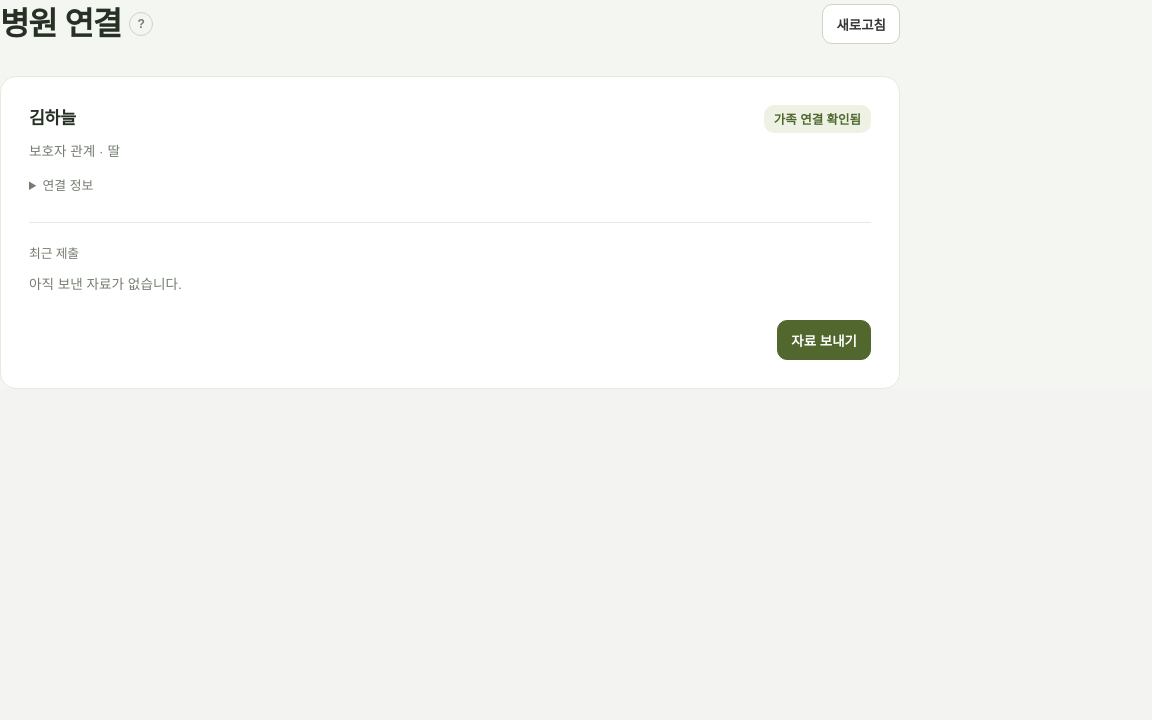
Test: 자료 전송 실패는 시트 안에서 보이고 닫을 수 있다
This screenshot has width=1152, height=720.
Click the button "자료 보내기" at point(824, 340), box [777,320,871,360]
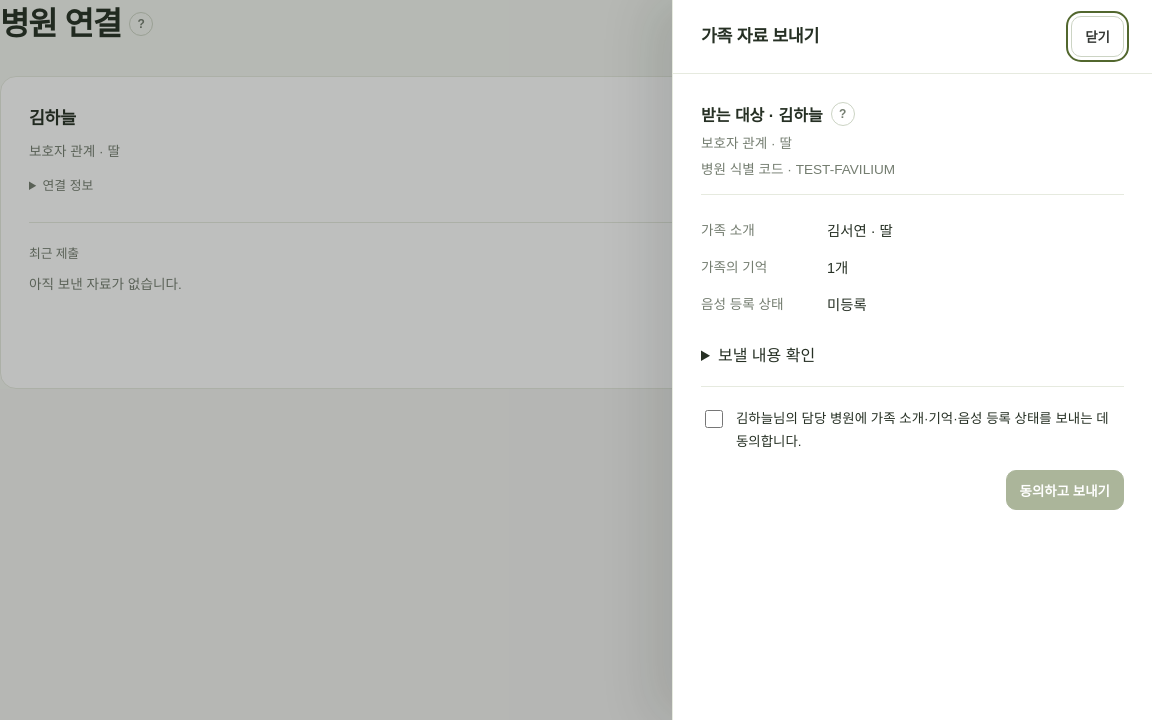
Check: the checkbox is enabled
Click the checkbox at point(714, 418), box [705,410,723,428]
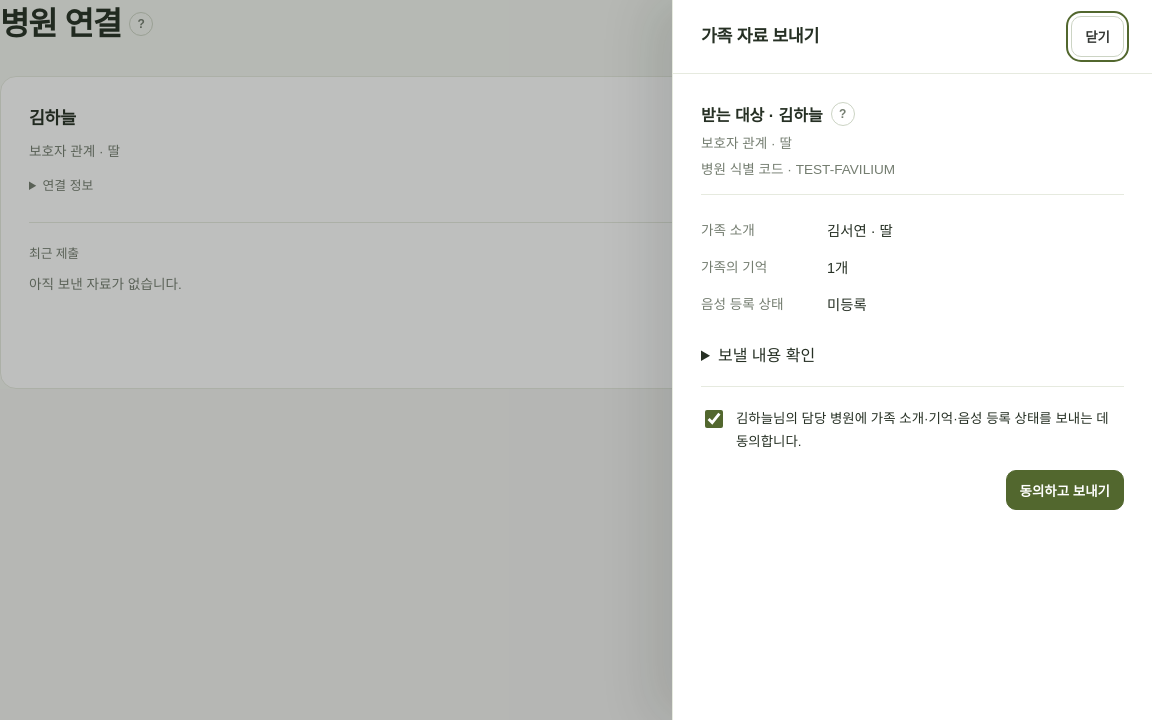
Click the button "동의하고 보내기" at point(1065, 490), box [1006,470,1124,510]
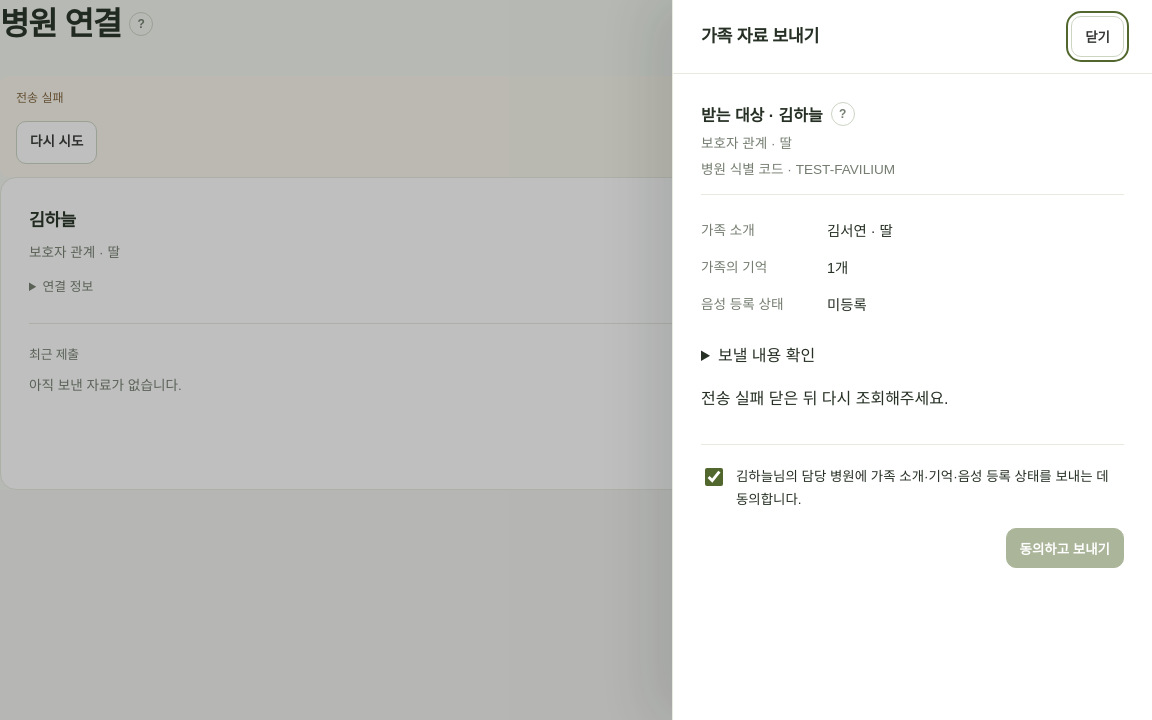
Check: the dialog shows "전송 실패", box [701,390,764,406]
Click the button with aria-label "가족 자료 보내기 닫기" at point(1098, 36), box [1071,16,1124,56]
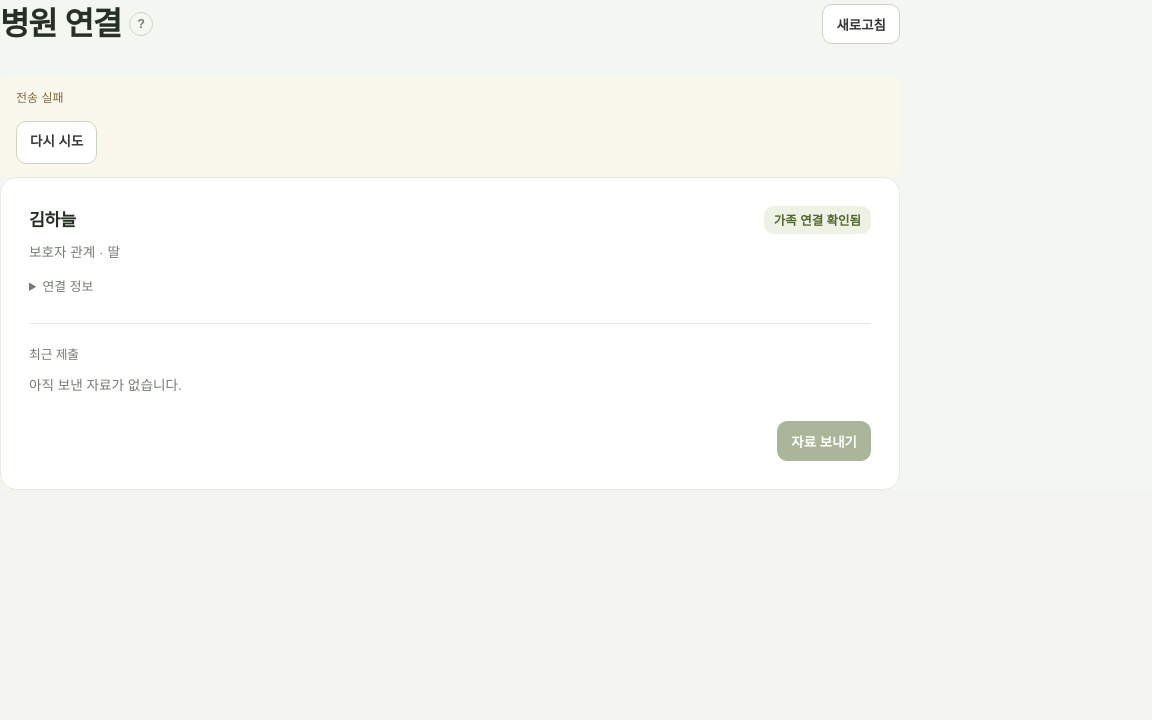
Check: the dialog is gone
